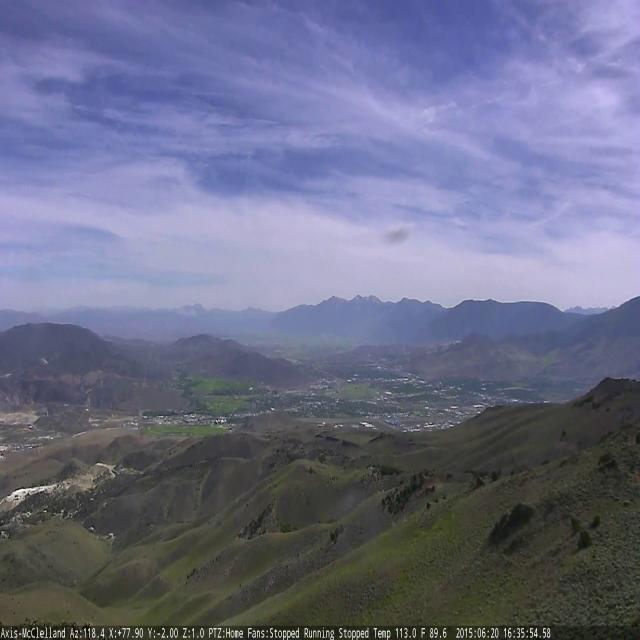smoke: (174, 302, 197, 315)
